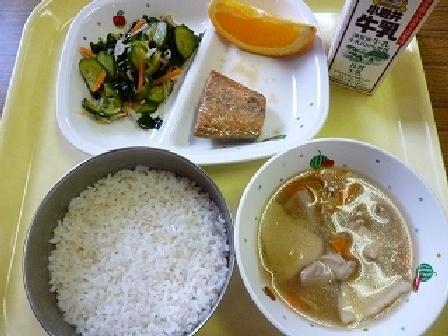Citrus: (194, 0, 322, 66)
Milk: (324, 0, 446, 90)
Rice: (23, 152, 238, 327)
Soups: (242, 152, 447, 332)
cooked food based on meat: (184, 68, 280, 151)
salad with sauce: (80, 14, 189, 112)
